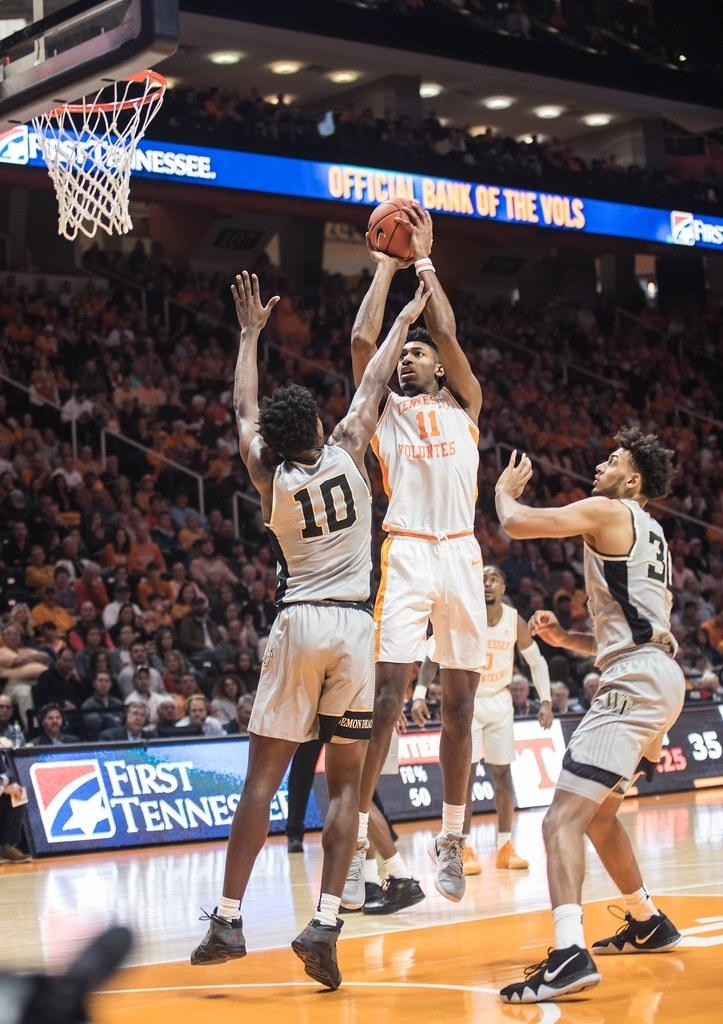basketball-player: (188, 237, 434, 990), (322, 222, 582, 911), (477, 426, 700, 1023), (447, 540, 552, 884), (364, 196, 422, 260)
